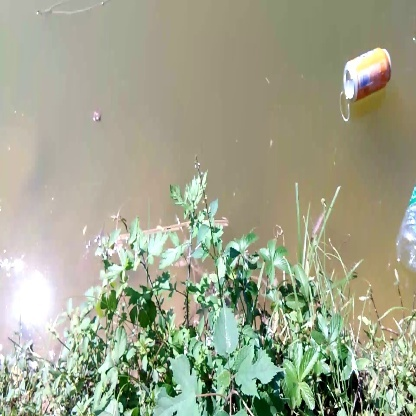bottle: (338, 40, 399, 124)
